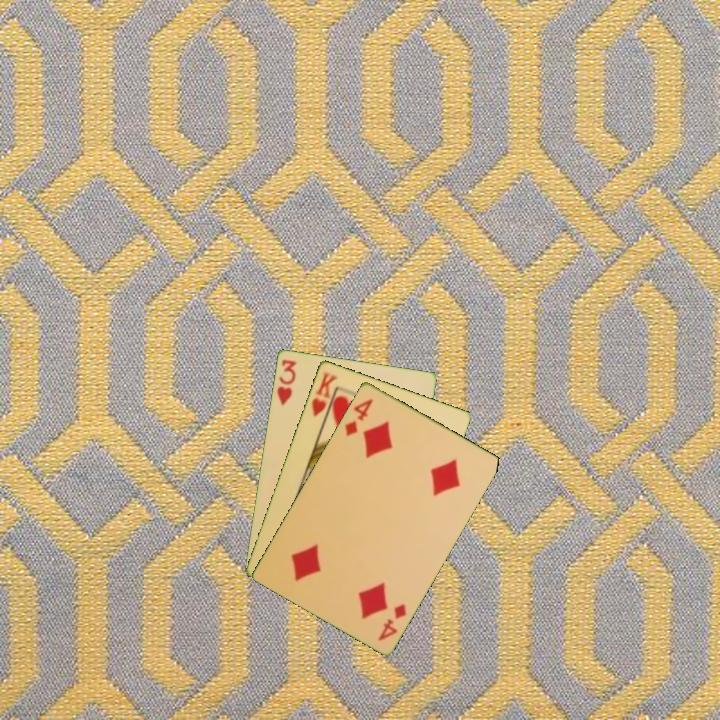3h: (273, 356, 299, 408)
4d: (341, 395, 376, 439), (374, 600, 409, 644)
Kh: (308, 368, 341, 425)
